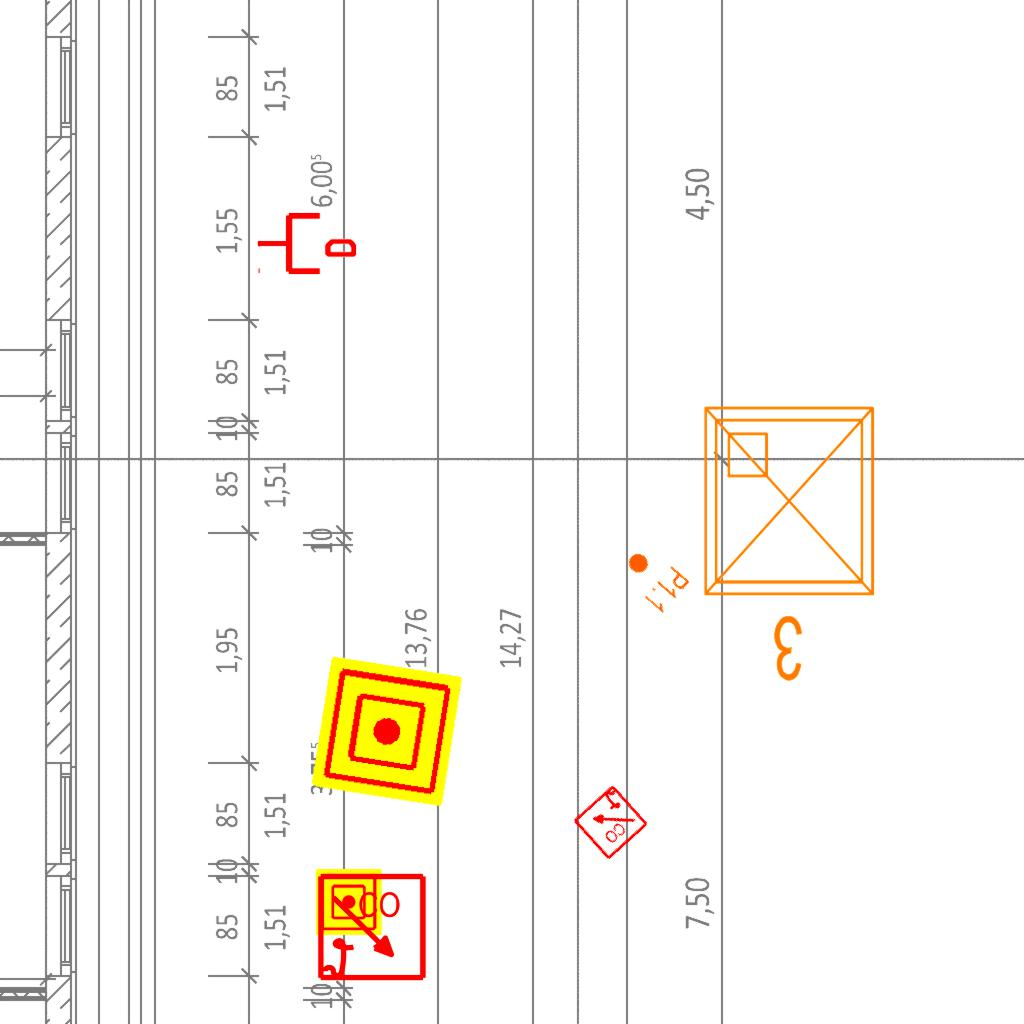Datenanschluss_einfach: (256, 209, 356, 278)
Downlight_LED_Einbauleuchten_Flur: (613, 539, 693, 617)
Einbaudownlights_LED_Konferenzraeume: (689, 392, 897, 692)
NAM-Nichtautomatischer_Melder: (311, 655, 463, 807), (316, 869, 382, 935)
ROA_Rauchmelder_optisch_mit_Signalgeber_(Sockelsirene): (316, 872, 429, 985), (570, 782, 650, 862)
